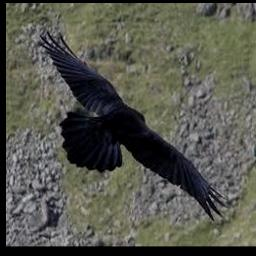Crow: (38, 31, 229, 222)
